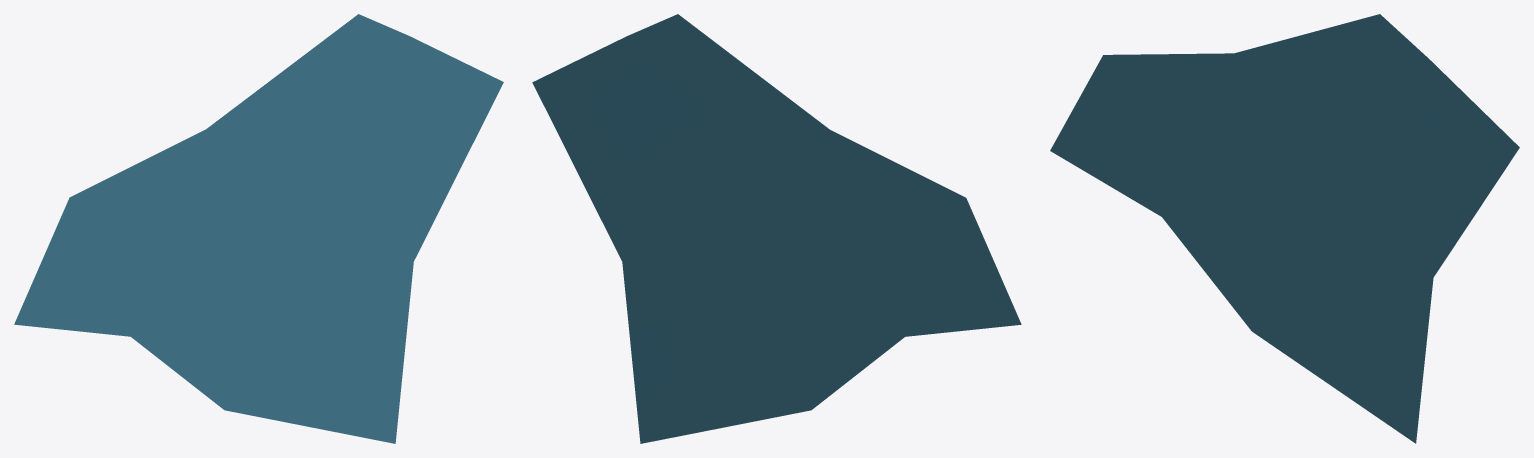
File: NexusA_Cloth_26.fbx
3 views of the same model, side by side, from view 1: azimuth 30°, elevation 25°; view 2: azimuth 150°, elevation 25°; view 3: azimuth 330°, elevation 25° (orthographic). The views are drawn at different scales.
Visible parts, largest first — view 1: pasted__polySurface76; view 2: pasted__polySurface76; view 3: pasted__polySurface76.
Boxes of the visible parts, x1,y1,x2,y2 form: pasted__polySurface76: [14, 14, 503, 443]; pasted__polySurface76: [532, 14, 1021, 443]; pasted__polySurface76: [1050, 14, 1519, 443].
Bounding box in the file's own units: 48.63 × 41.67 × 0.0425.
